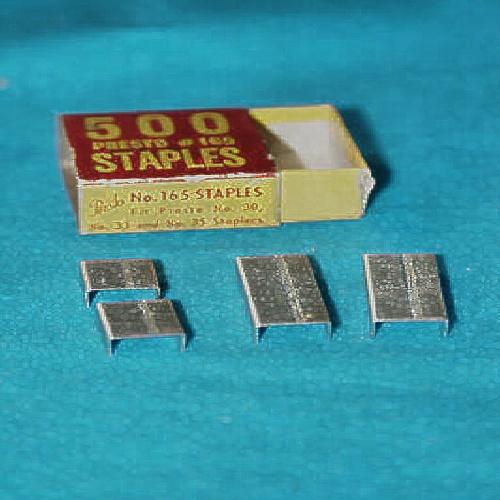stapler: (48, 92, 456, 349)
